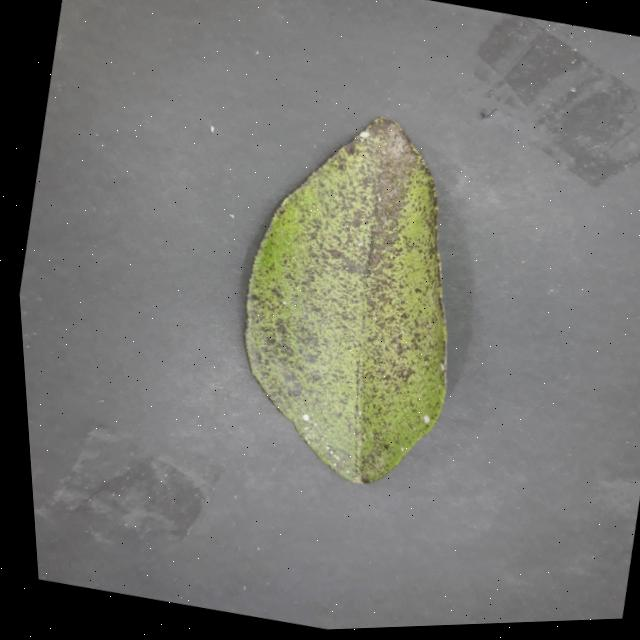greasy_spot: (244, 117, 445, 483)
